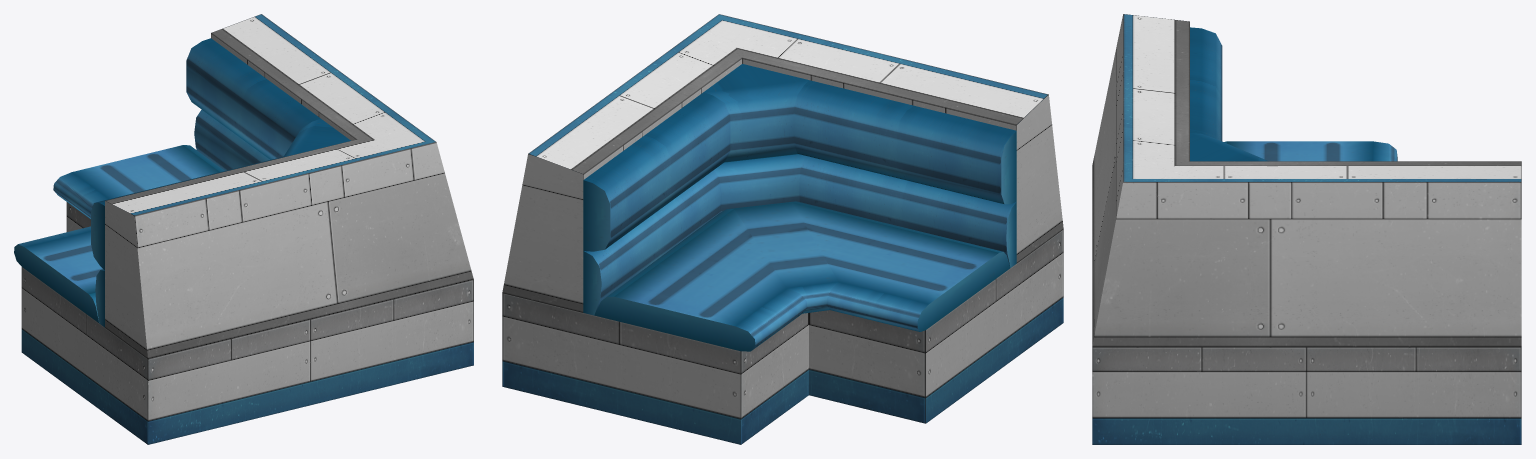
File: Seat_AngleIn_01.FBX
The picture shows the model from 3 angles, left to right: view 1: azimuth 30°, elevation 25°; view 2: azimuth 150°, elevation 25°; view 3: azimuth 270°, elevation 25°; orthographic projection. The views are drawn at different scales.
Parts seen in each view (by area): view 1: Seat_AngleIn_01; view 2: Seat_AngleIn_01; view 3: Seat_AngleIn_01.
Part boxes in pixels (x1,y1,x2,y2): Seat_AngleIn_01: (14,14,473,444); Seat_AngleIn_01: (502,14,1063,444); Seat_AngleIn_01: (1092,14,1521,444).
Bounding box in the file's own units: 67.23 × 43.22 × 67.36.
